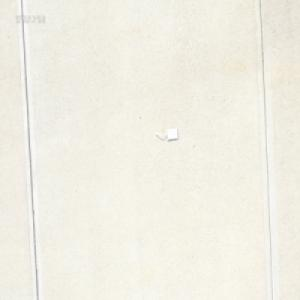LuggageTag: (154, 126, 178, 142)
